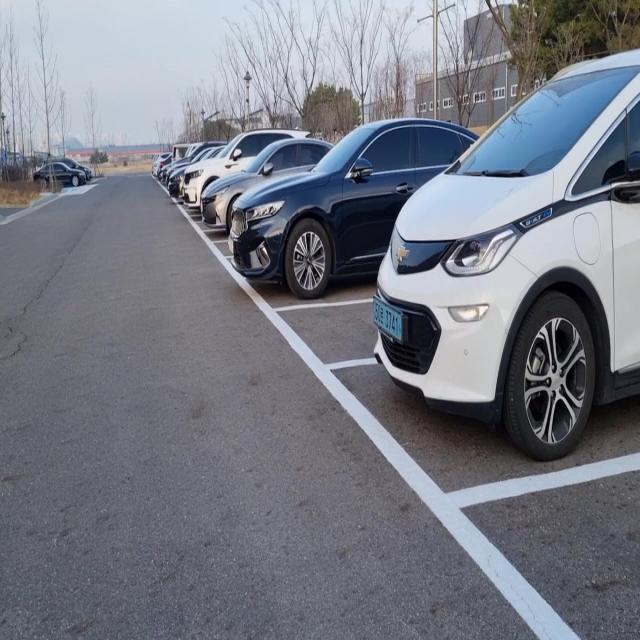empty: (263, 236, 376, 380)
occupied: (322, 59, 640, 508), (235, 143, 398, 322), (197, 192, 233, 249), (182, 162, 202, 226)
